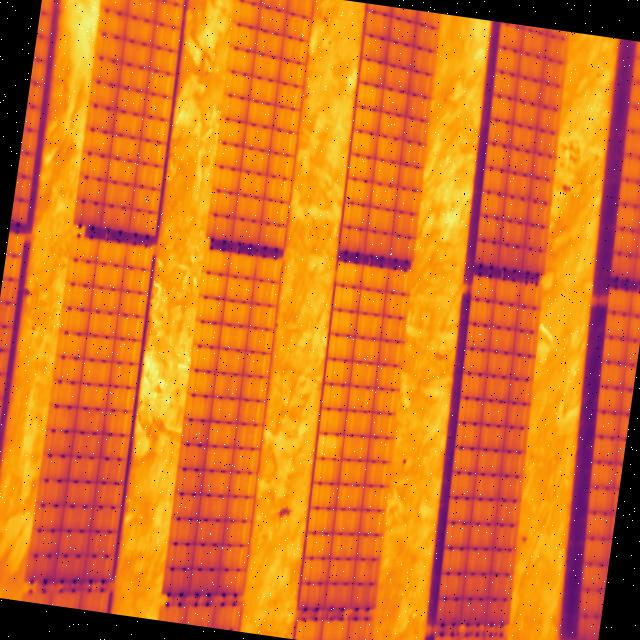Hotspot: (314, 432, 343, 460)
